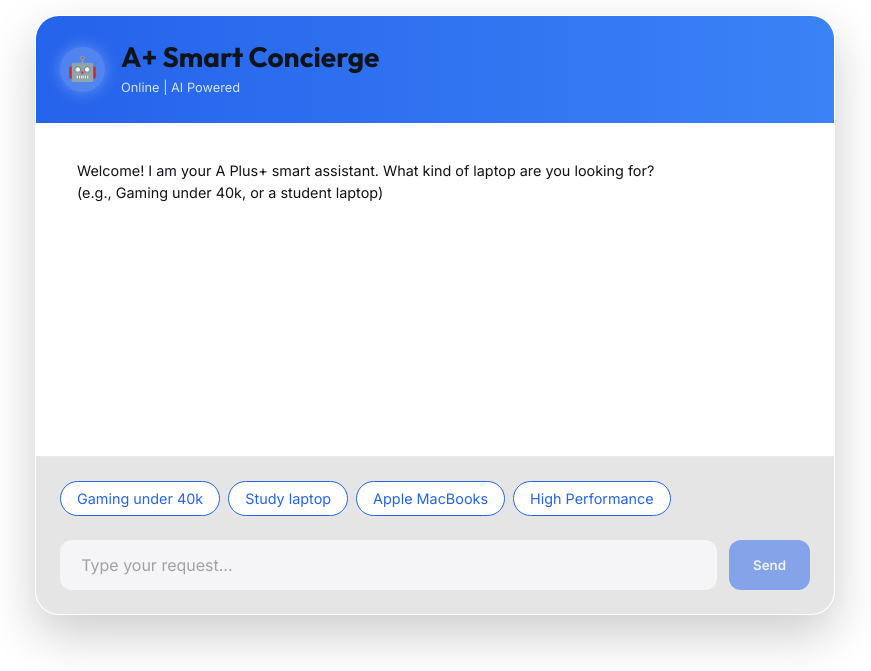
Scenario: AIConcierge Component › should show user message when sending request
This screenshot has width=871, height=671.
Type "Gaming laptop" into the field with placeholder "Type your request..." at (388, 565), box [60, 540, 717, 590]
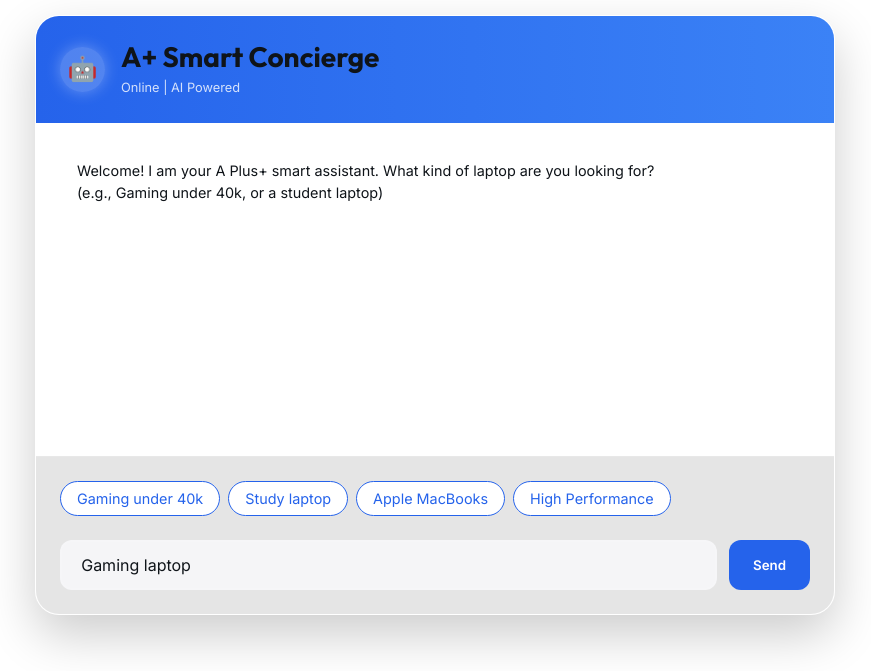
Click the button "Send" at (770, 565), box [729, 540, 810, 590]
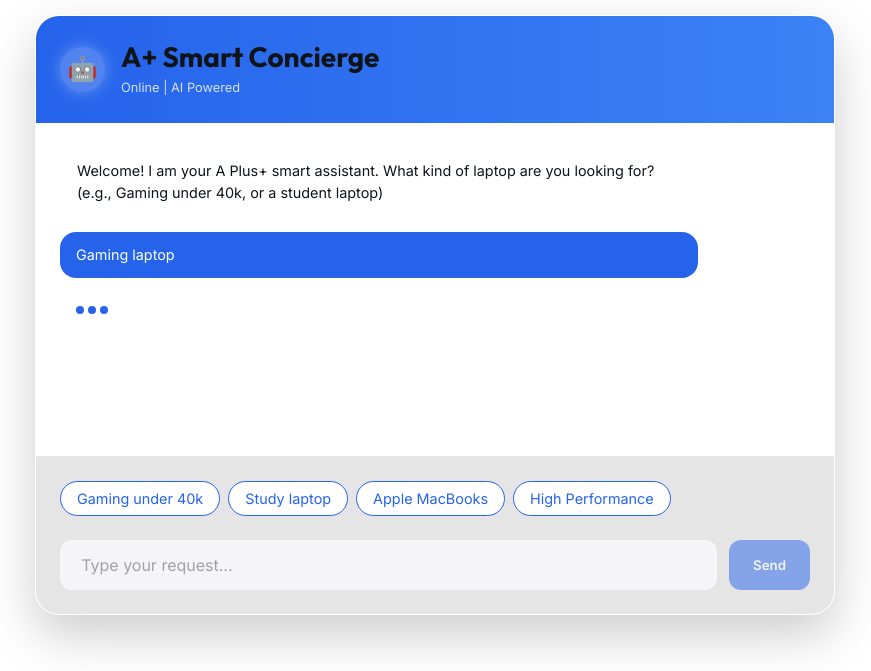
Now the text "Gaming laptop" is shown, box [60, 232, 698, 278]
